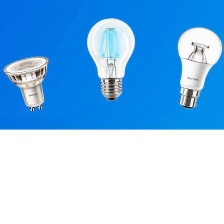light_bulb: (84, 17, 136, 103), (175, 24, 223, 111), (1, 53, 54, 112)
